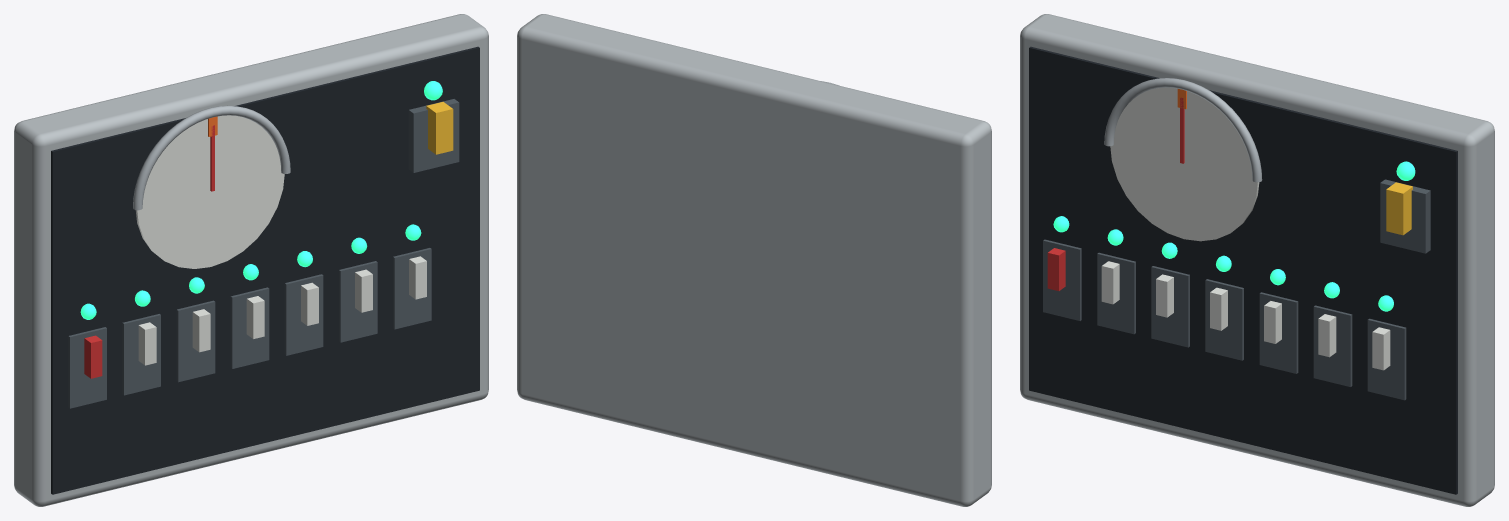
Rendered from power-panel.glb.
3 views of the same model, side by side, from view 1: azimuth 30°, elevation 25°; view 2: azimuth 150°, elevation 25°; view 3: azimuth 330°, elevation 25° (orthographic).
Parts seen in each view (by area): view 1: power-panel-dark-polymer, power-panel-panel-grey, power_gauge-hull-white, switch-plate (×7), toggle-lever (×7), power_gauge-aluminium, breaker-body, breaker-handle; view 2: power-panel-panel-grey; view 3: power-panel-dark-polymer, power-panel-panel-grey, power_gauge-hull-white, switch-plate (×7), toggle-lever (×7), power_gauge-aluminium, breaker-body, breaker-handle.
Boxes of the visible parts, box(x1,y1,x2,y2) form: power-panel-dark-polymer: box(51, 46, 479, 494); power-panel-panel-grey: box(14, 14, 488, 506); power_gauge-hull-white: box(135, 115, 284, 268); switch-plate (×7): box(68, 248, 431, 408); toggle-lever (×7): box(84, 256, 426, 378); power_gauge-aluminium: box(133, 105, 290, 210); breaker-body: box(408, 99, 459, 172); breaker-handle: box(426, 101, 453, 154); power-panel-panel-grey: box(517, 14, 991, 506); power-panel-dark-polymer: box(1029, 46, 1457, 494); power-panel-panel-grey: box(1020, 14, 1494, 506); power_gauge-hull-white: box(1110, 87, 1259, 241); switch-plate (×7): box(1043, 239, 1406, 400); toggle-lever (×7): box(1047, 248, 1390, 370); power_gauge-aluminium: box(1104, 78, 1262, 182); breaker-body: box(1380, 179, 1430, 253); breaker-handle: box(1386, 182, 1412, 235).
Size of the model in its own units: 1.6 by 1.25 by 0.25.
